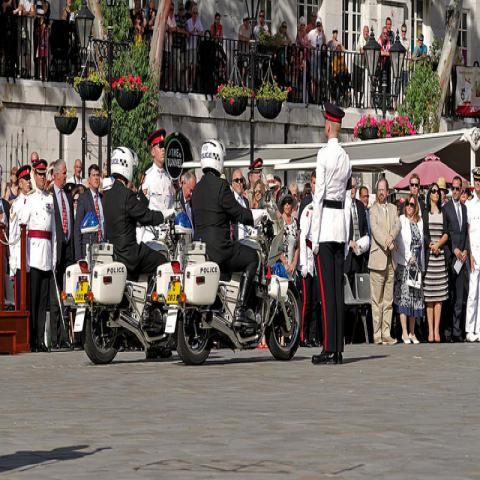motorcycle: (152, 212, 303, 365), (61, 212, 179, 366)
